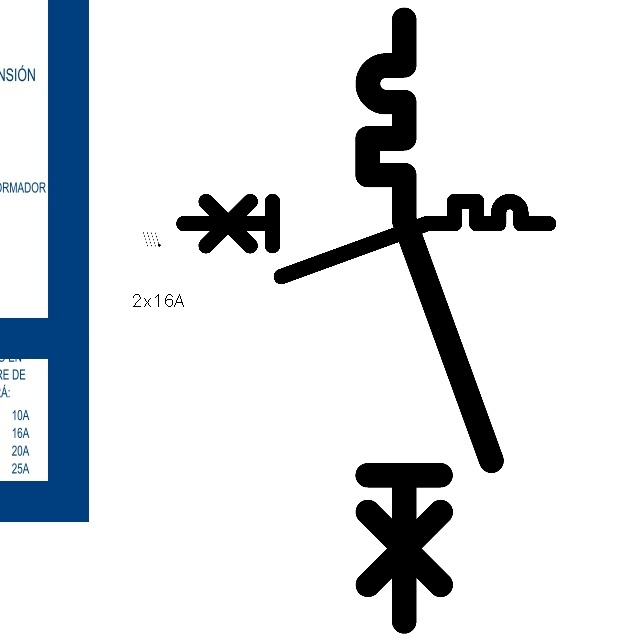interruptor_termomagnetico: (352, 4, 507, 637), (174, 192, 557, 285)
